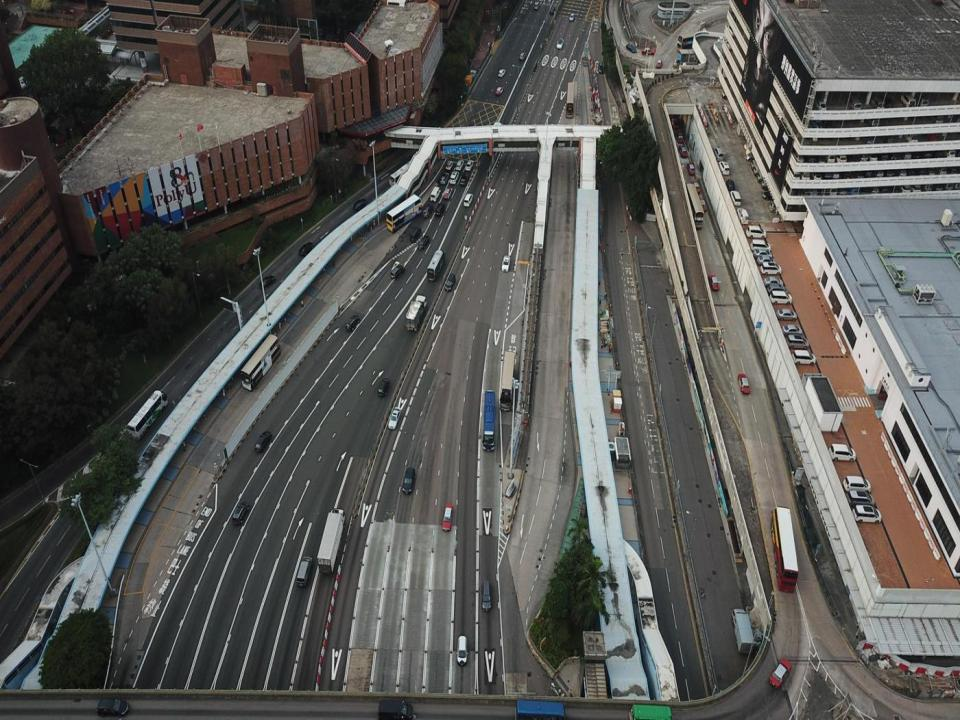bus: (770, 506, 799, 593), (241, 334, 281, 391), (127, 390, 168, 440), (386, 194, 422, 233), (515, 698, 566, 719), (390, 157, 421, 189), (499, 351, 515, 410), (482, 390, 496, 452), (685, 183, 704, 228), (676, 30, 706, 52), (630, 705, 672, 719), (427, 250, 445, 280), (565, 82, 574, 118)
car: (768, 658, 792, 688), (254, 431, 271, 452), (442, 503, 453, 531), (388, 407, 401, 430), (776, 308, 797, 321), (781, 323, 802, 336), (738, 373, 750, 394), (762, 276, 784, 287), (298, 241, 314, 256), (861, 150, 878, 164), (757, 255, 776, 266), (822, 114, 833, 132), (809, 117, 822, 132), (814, 149, 826, 165), (782, 198, 794, 214), (260, 275, 274, 288), (851, 166, 864, 180), (882, 164, 894, 179), (708, 274, 719, 290), (785, 184, 796, 200), (762, 190, 779, 200), (418, 236, 431, 249), (814, 98, 827, 111), (804, 151, 816, 165), (933, 178, 944, 193), (754, 249, 772, 258), (743, 140, 759, 150), (353, 198, 367, 209), (722, 90, 737, 100), (911, 146, 920, 162), (727, 23, 738, 36), (690, 180, 700, 194), (697, 198, 707, 212), (725, 178, 736, 190), (440, 172, 450, 185), (927, 164, 936, 178), (678, 145, 688, 157), (459, 172, 468, 185), (675, 130, 683, 144), (686, 162, 694, 176), (502, 256, 510, 270), (444, 185, 452, 198), (716, 36, 729, 44), (626, 43, 636, 53), (641, 48, 654, 55), (465, 160, 473, 171), (495, 86, 504, 95), (556, 38, 564, 48), (456, 160, 464, 170), (670, 118, 678, 127), (446, 160, 453, 170), (725, 40, 732, 50), (519, 52, 527, 60), (497, 68, 505, 76), (655, 60, 662, 68), (550, 6, 555, 14), (569, 13, 574, 21)
truck: (316, 508, 346, 575), (732, 609, 755, 654), (405, 294, 427, 331)
van: (378, 700, 413, 719), (851, 504, 881, 524), (842, 475, 872, 494), (296, 556, 313, 588), (828, 442, 856, 461), (97, 699, 128, 716), (846, 490, 874, 507), (480, 579, 492, 612), (785, 334, 809, 350), (456, 635, 468, 666), (804, 110, 822, 130), (232, 502, 248, 524), (792, 349, 815, 364), (402, 467, 415, 493), (863, 109, 879, 130), (760, 260, 782, 275), (766, 282, 788, 297), (769, 290, 792, 304), (846, 92, 862, 112), (914, 88, 929, 108), (750, 238, 771, 252), (831, 148, 847, 166), (794, 165, 810, 183), (902, 127, 918, 144), (939, 145, 956, 161), (857, 165, 873, 182), (746, 225, 766, 238), (868, 94, 884, 110), (876, 95, 892, 111), (444, 272, 456, 292), (900, 93, 916, 108), (822, 183, 837, 199), (852, 149, 869, 163), (940, 177, 954, 194), (735, 207, 748, 225), (760, 177, 778, 190), (768, 200, 786, 213), (804, 183, 818, 199), (346, 314, 359, 331), (930, 108, 943, 125), (817, 181, 830, 198), (746, 150, 764, 162), (753, 164, 771, 176), (870, 166, 885, 180), (822, 148, 835, 164), (919, 147, 932, 163), (787, 166, 800, 182), (920, 177, 933, 193), (378, 378, 389, 396), (880, 131, 894, 145), (907, 181, 921, 195), (791, 150, 804, 165), (875, 148, 888, 163), (887, 148, 900, 163), (809, 168, 822, 183), (819, 165, 832, 180), (756, 171, 772, 183), (894, 164, 906, 180), (751, 158, 768, 169), (391, 265, 404, 279), (862, 133, 875, 147), (899, 148, 912, 162), (865, 183, 879, 196), (729, 191, 741, 206), (744, 146, 762, 156), (847, 181, 859, 196), (898, 180, 910, 195), (947, 179, 960, 192), (718, 161, 730, 175), (410, 227, 422, 241), (936, 164, 948, 178), (713, 147, 724, 162), (828, 166, 839, 181), (434, 203, 446, 216), (423, 204, 434, 218), (431, 186, 441, 201), (449, 171, 460, 184), (464, 194, 473, 207), (598, 60, 604, 73), (534, 1, 540, 8)
